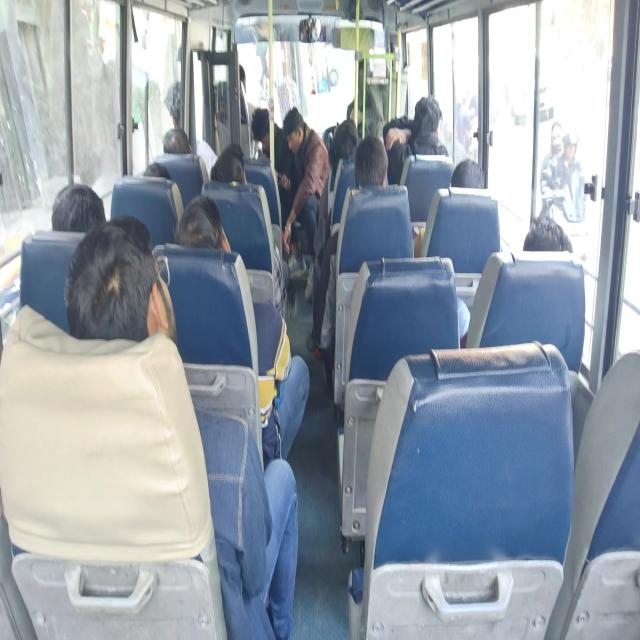person: (64, 215, 298, 638), (174, 194, 310, 467), (309, 134, 389, 354), (457, 214, 573, 347), (209, 143, 289, 317), (280, 106, 331, 301), (384, 94, 449, 184), (251, 107, 297, 231), (162, 80, 218, 179), (540, 130, 585, 222), (174, 194, 231, 254), (51, 182, 106, 233), (540, 121, 564, 215), (522, 214, 572, 252), (210, 143, 247, 184), (451, 158, 484, 188), (162, 127, 191, 154)
